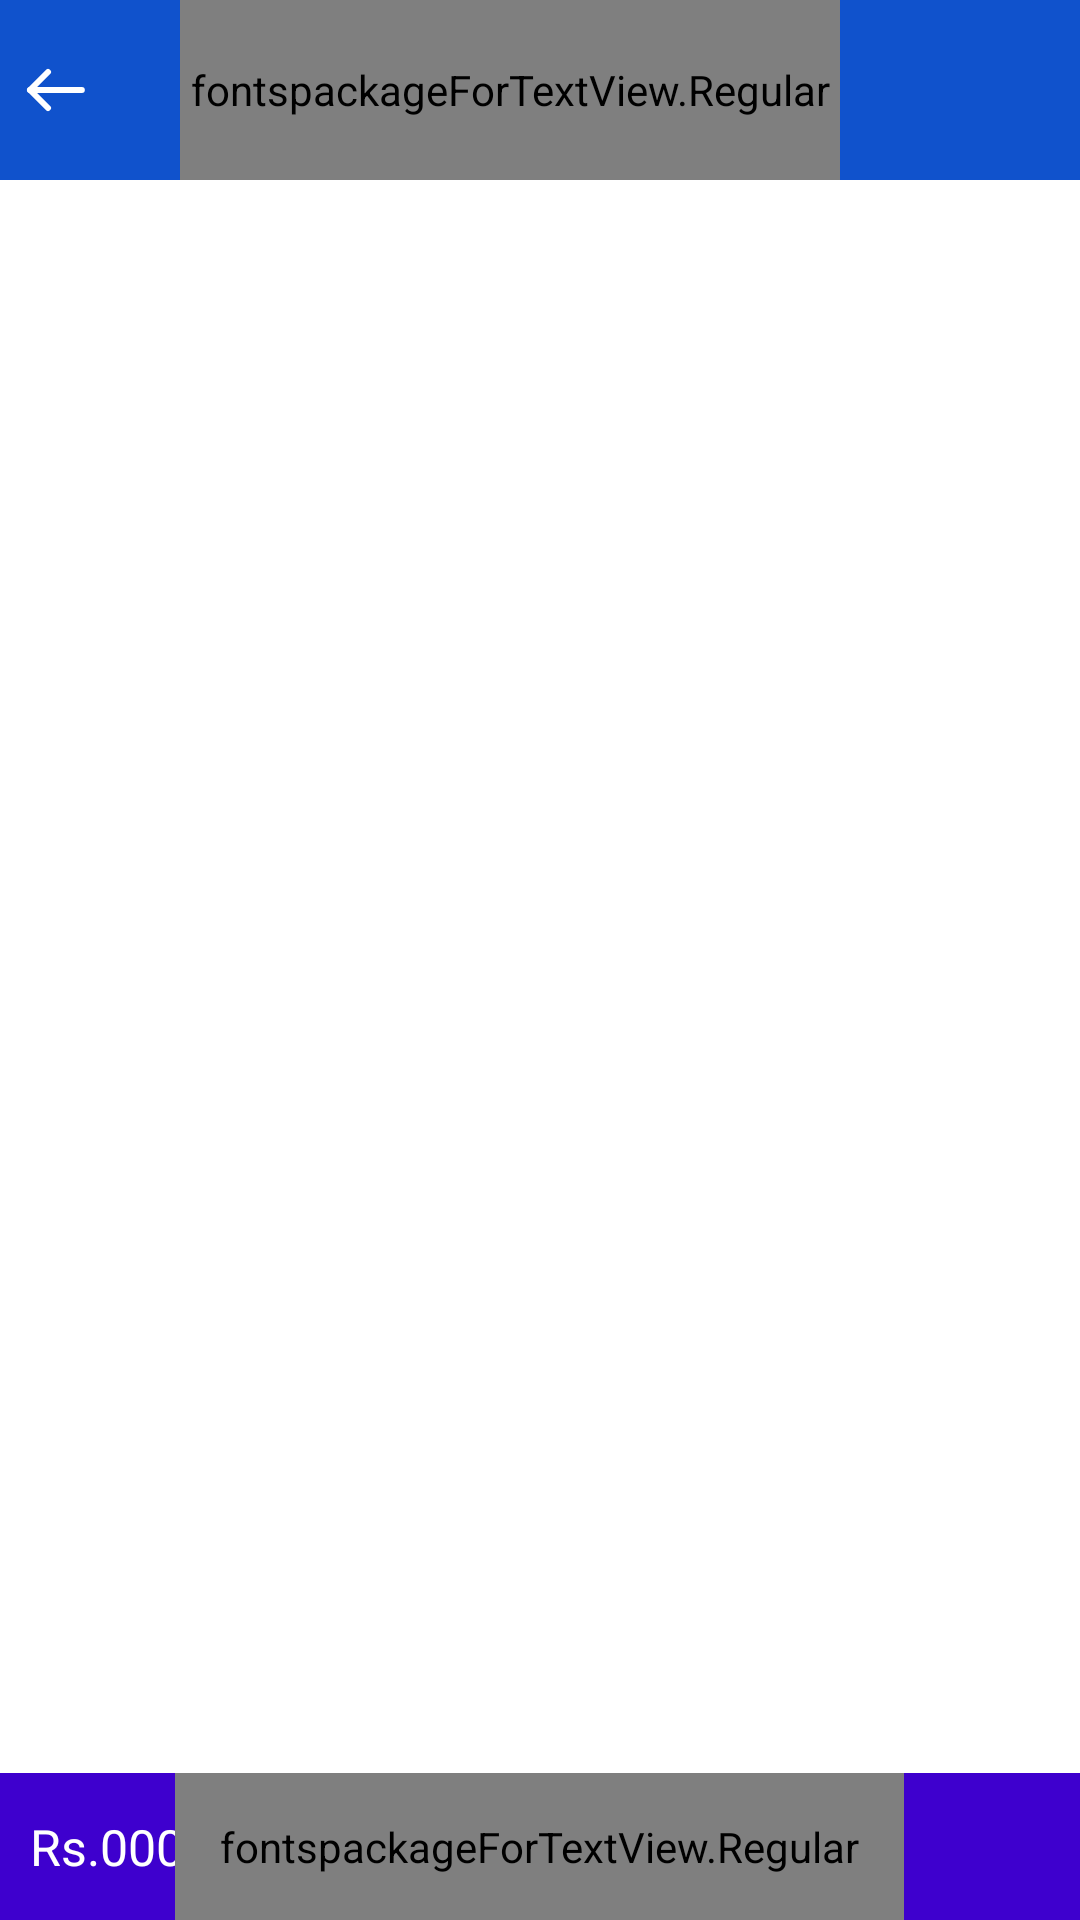

Screen size 1080w x 1920h. Icon name, then its box in pixels as (x1, y1, x2, y2):
back: (27, 69, 85, 111)
